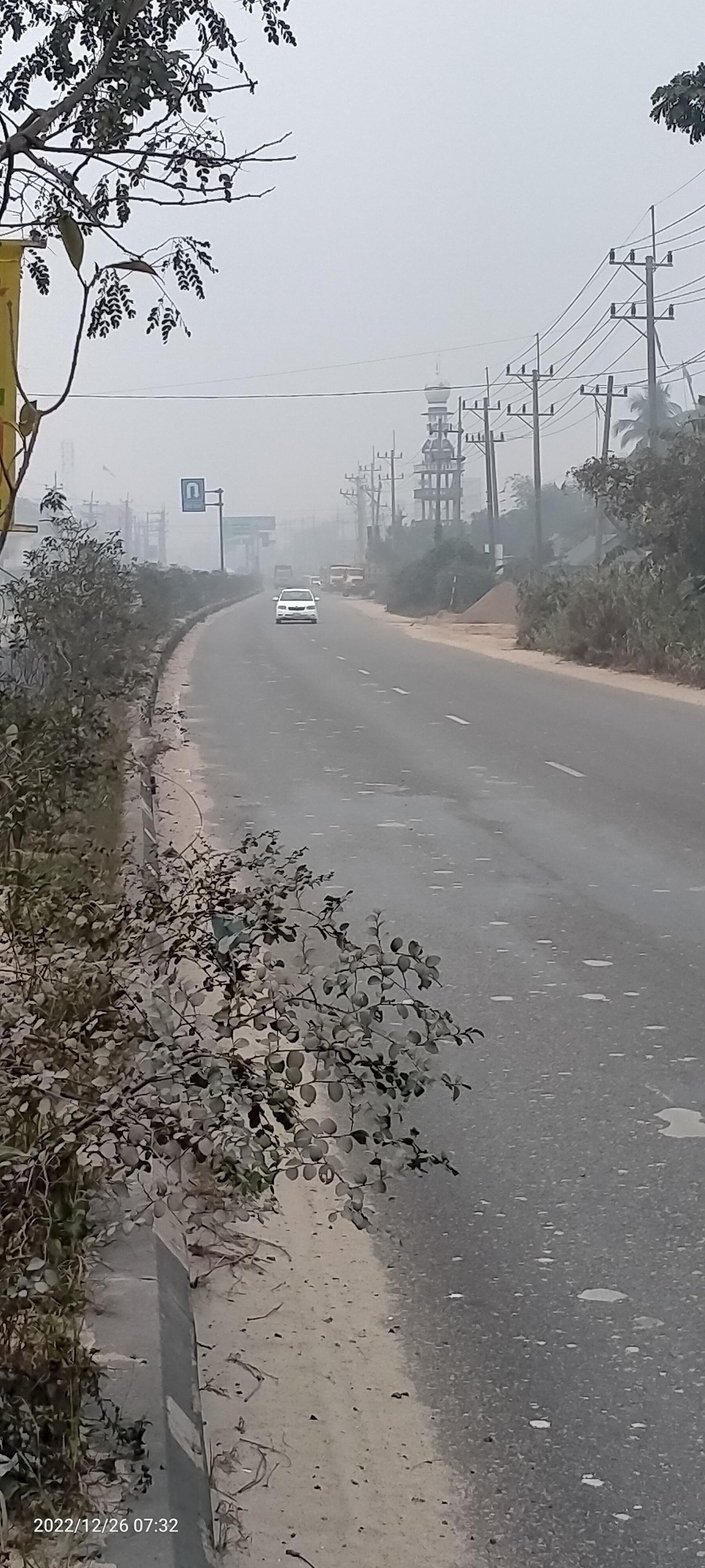Car: (269, 575, 323, 630)
